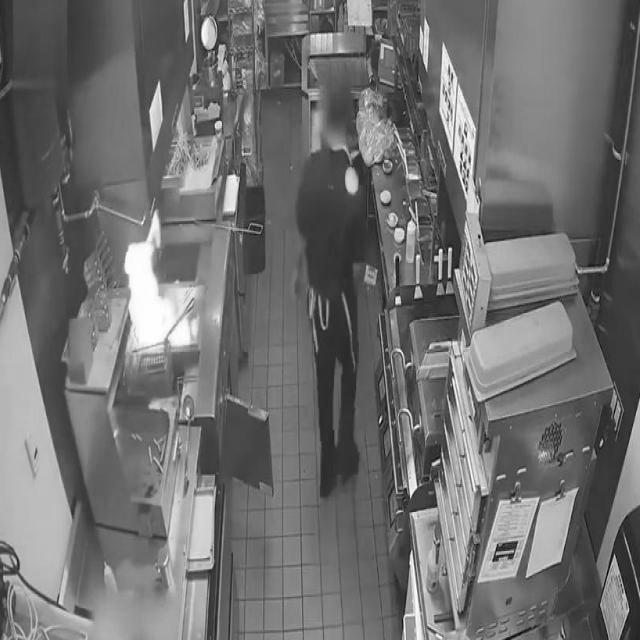smoke: (122, 204, 188, 346)
